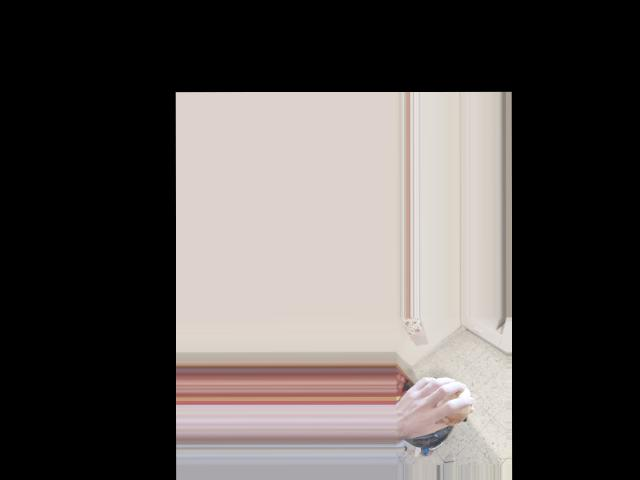onion: (433, 383, 471, 423)
